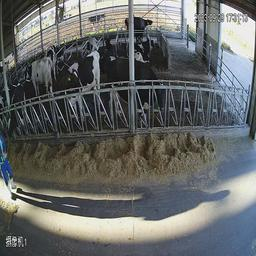cow: (106, 48, 166, 133), (63, 55, 106, 130), (2, 78, 30, 146), (20, 55, 56, 105), (134, 10, 155, 43), (82, 30, 102, 52)
